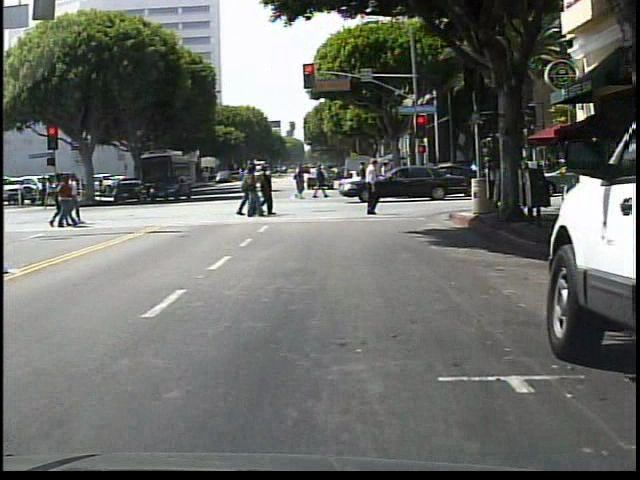person: (354, 157, 391, 222)
